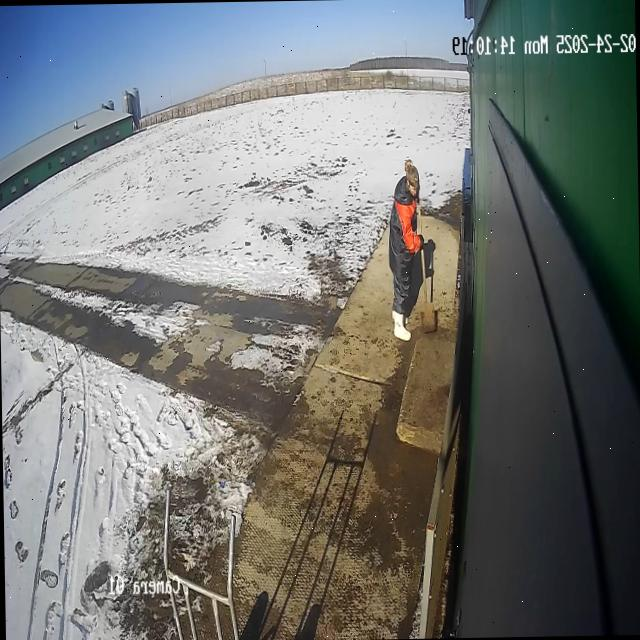Red uniform: (385, 158, 429, 344)
